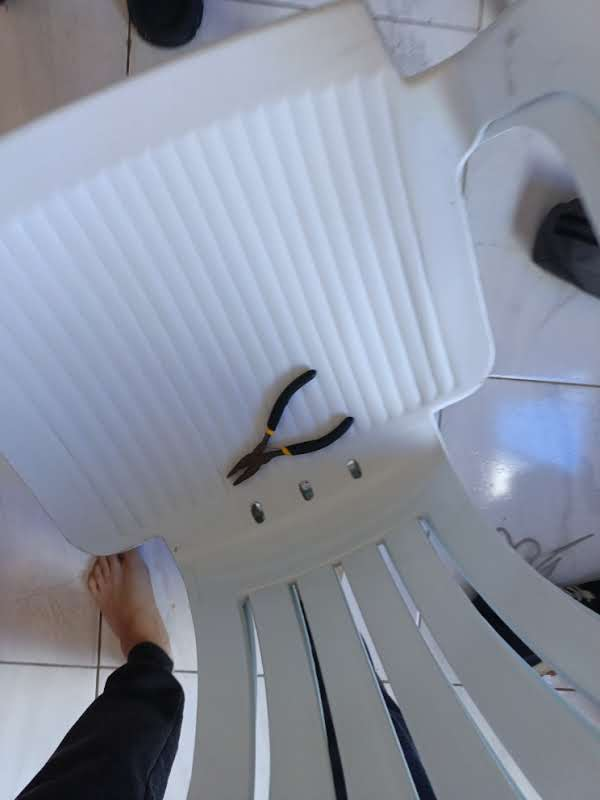Pinzas: (226, 365, 353, 486)
